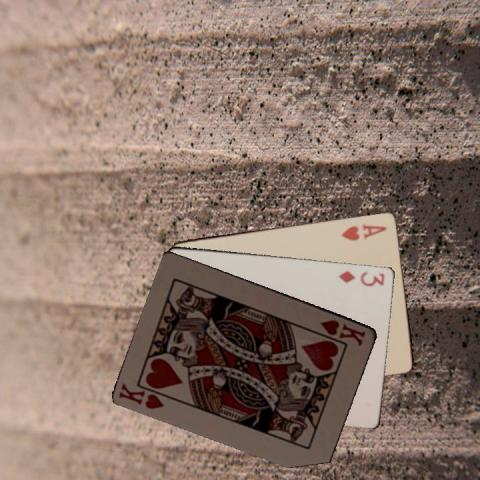3d: (336, 268, 386, 288)
Ah: (338, 220, 389, 242)
Kh: (317, 316, 367, 347), (116, 380, 167, 410)
